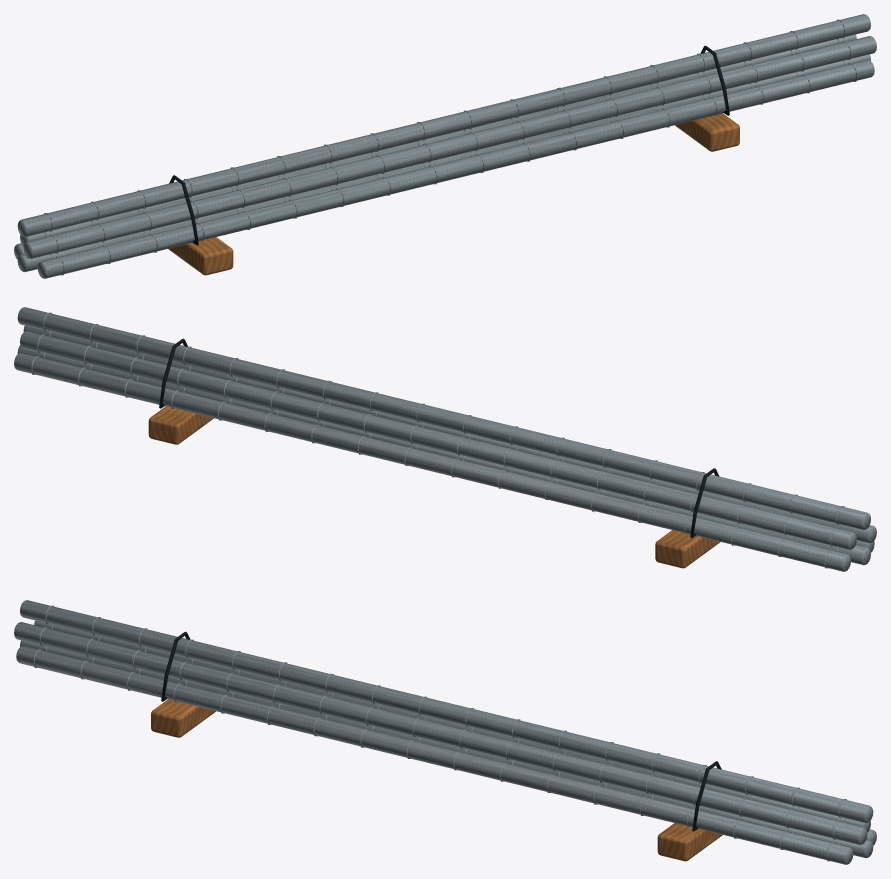
File: CSE_RebarBundle.fbx
3 renders of one model, top to bottom at view 1: azimuth 30°, elevation 25°; view 2: azimuth 150°, elevation 25°; view 3: azimuth 330°, elevation 25°, orthographic.
Parts seen in each view (by area): view 1: CSE_RebarBundle; view 2: CSE_RebarBundle; view 3: CSE_RebarBundle.
Boxes of the visible parts, left/top/right/bottom form: CSE_RebarBundle: left=14, top=14, right=876, bottom=278; CSE_RebarBundle: left=14, top=307, right=876, bottom=571; CSE_RebarBundle: left=14, top=600, right=876, bottom=864.
Size of the model in its own units: 207 by 18.01 by 24.
